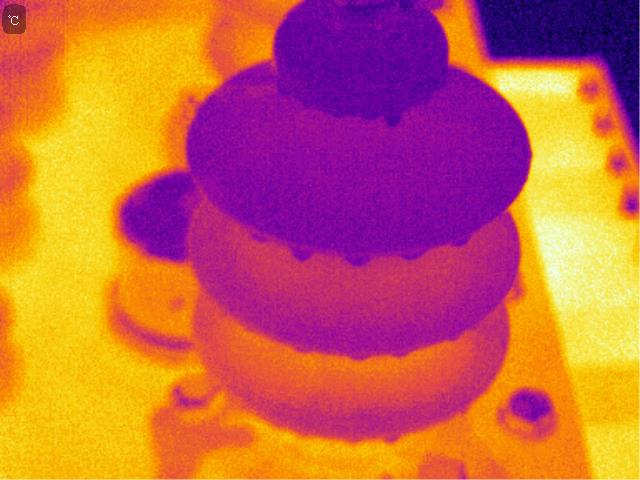Water: (446, 227, 476, 250), (398, 244, 428, 265), (376, 111, 406, 131), (343, 248, 369, 270), (288, 243, 316, 263), (342, 349, 373, 366), (243, 226, 270, 244), (341, 436, 371, 452), (384, 346, 412, 362), (381, 433, 406, 449), (444, 328, 466, 346), (291, 344, 313, 359)
